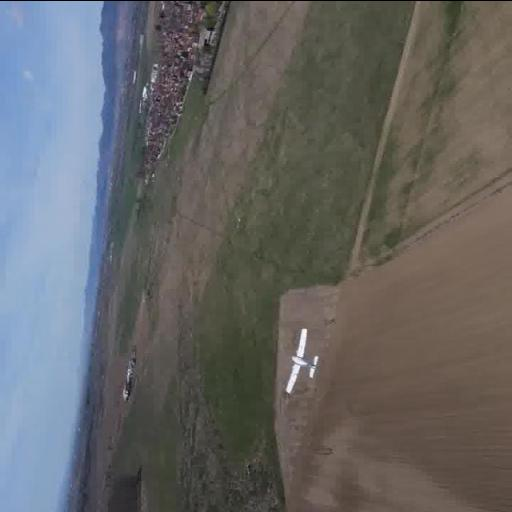uav: (280, 322, 328, 394)
